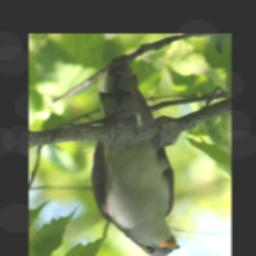Cuckoo: (90, 56, 181, 256)
